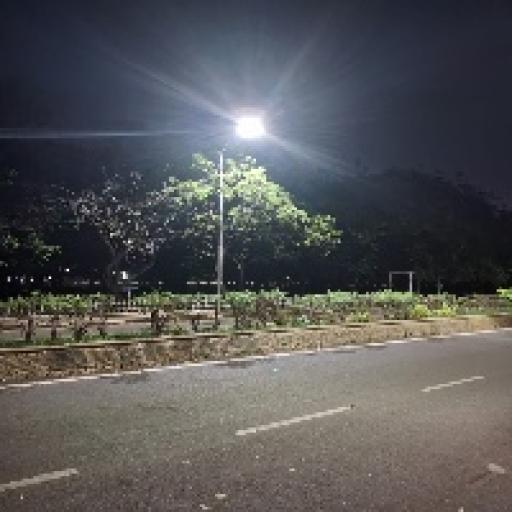Working: (224, 109, 274, 149)
